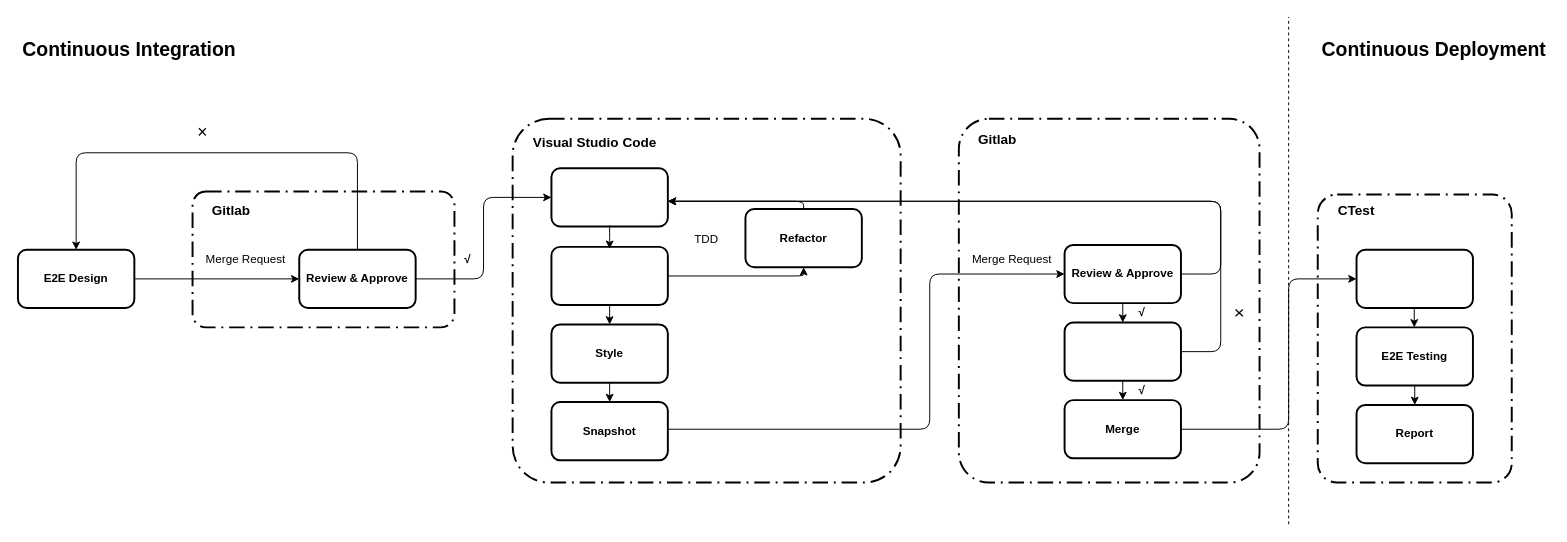
This 1567x542 diagram has some shape labels left out. Each missing label, with the box of its shape:
Build, Code Scanning & Unit Testing: (1063, 321, 1181, 381)
Deploy: (1355, 248, 1473, 308)
Green: (550, 245, 668, 306)
Red: (550, 167, 668, 227)
